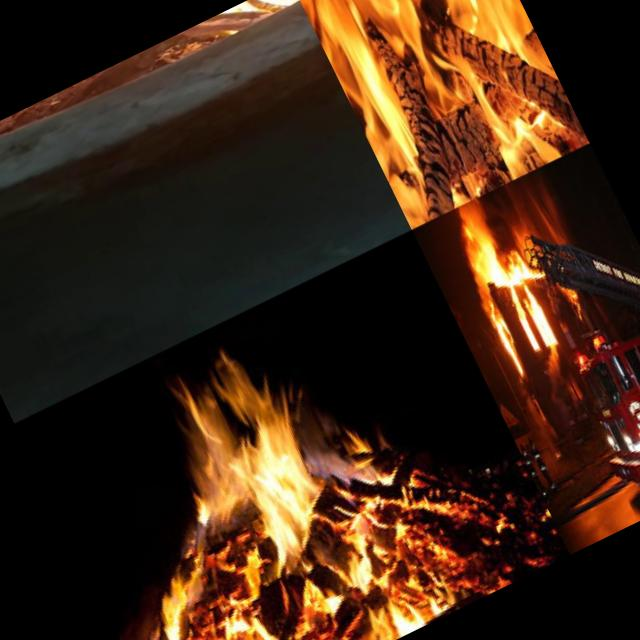fire: (44, 290, 458, 640), (290, 0, 589, 229), (438, 191, 562, 363), (491, 167, 574, 263), (552, 273, 590, 327)
smoke: (530, 334, 576, 392)
